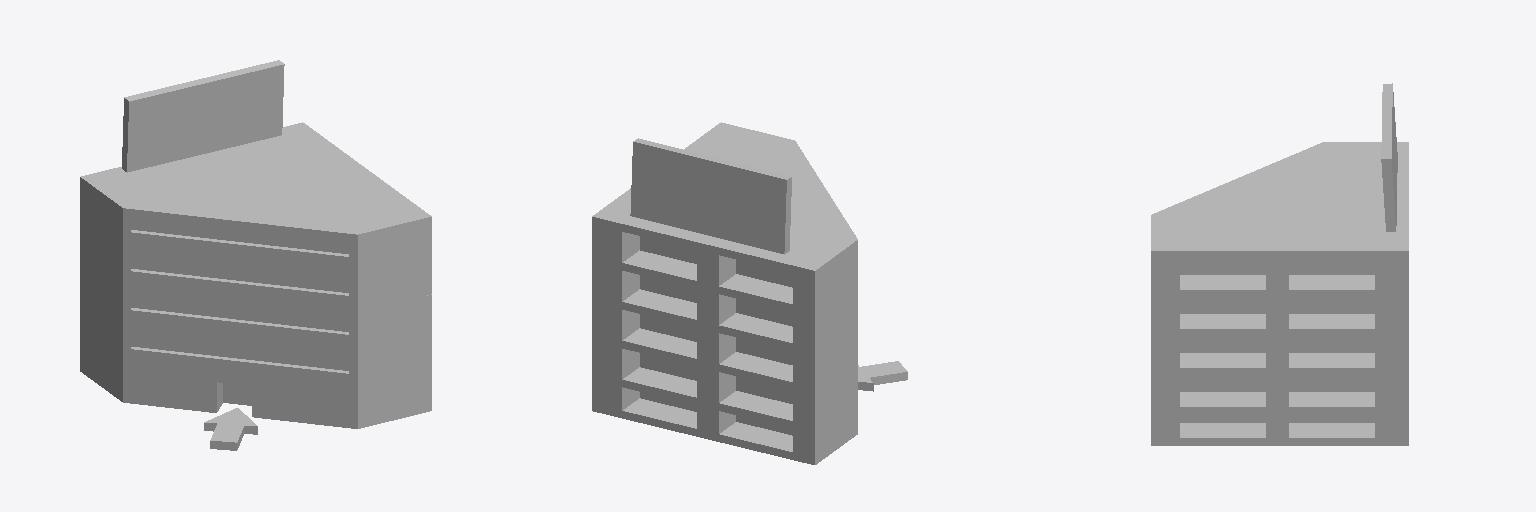
3 views of the same model, side by side, from view 1: azimuth 30°, elevation 25°; view 2: azimuth 150°, elevation 25°; view 3: azimuth 270°, elevation 25° (orthographic).
Parts seen in each view (by area): view 1: lll4.001, Cube.005_Cube.006; view 2: lll4.001, Cube.005_Cube.006; view 3: lll4.001, Cube.005_Cube.006.
Boxes of the visible parts, <box> form: lll4.001: <box>80,122,431,450</box>; Cube.005_Cube.006: <box>122,60,284,172</box>; lll4.001: <box>592,122,907,464</box>; Cube.005_Cube.006: <box>630,138,791,254</box>; lll4.001: <box>1151,142,1408,445</box>; Cube.005_Cube.006: <box>1381,83,1397,231</box>.
Size of the model in its own units: 30 by 34.93 by 30.01.